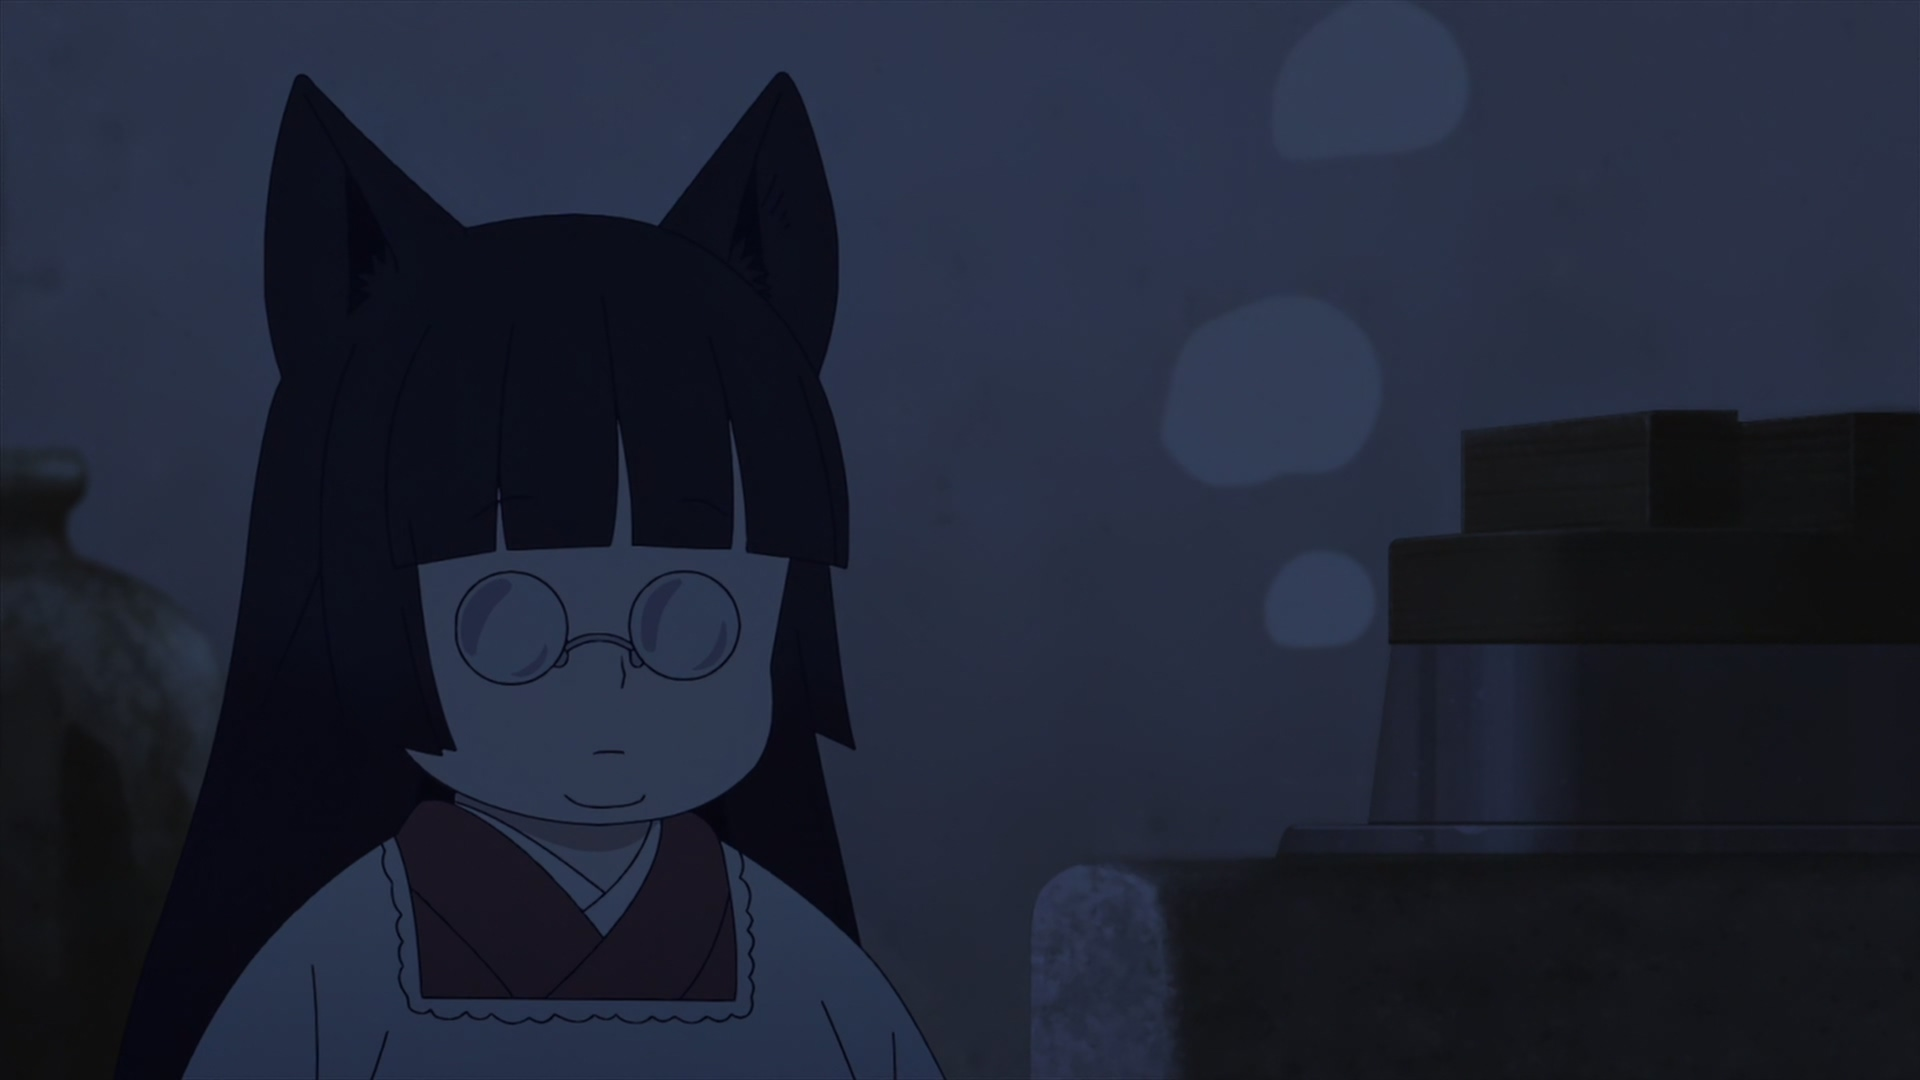其他: (123, 67, 940, 1080)
